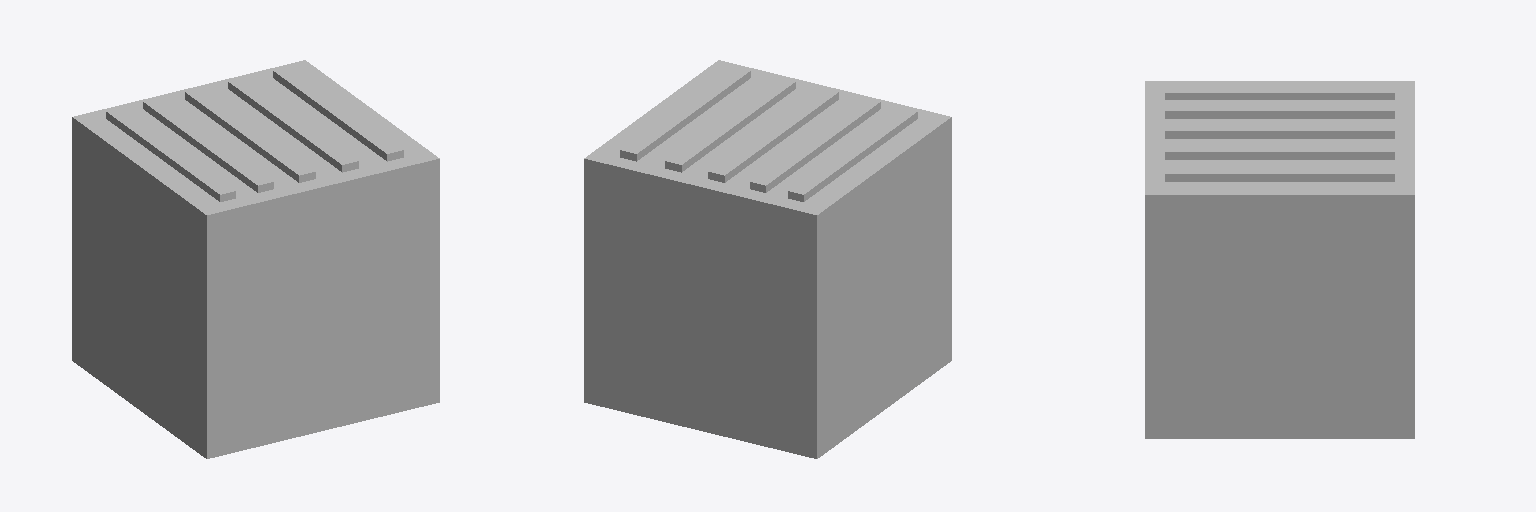
File: Tile2.obj
3 renders of one model, left to right at view 1: azimuth 30°, elevation 25°; view 2: azimuth 150°, elevation 25°; view 3: azimuth 270°, elevation 25°, orthographic.
Parts seen in each view (by area): view 1: Cubo, Cubo.003, Cubo.004, Cubo.005, Cubo.002, Cubo.001; view 2: Cubo, Cubo.003, Cubo.004, Cubo.005, Cubo.002, Cubo.001; view 3: Cubo, Cubo.002, Cubo.003, Cubo.004, Cubo.005, Cubo.001.
Boxes of the visible parts, x1,y1,x2,y2 form: Cubo: [72, 60, 439, 458]; Cubo.003: [185, 88, 315, 182]; Cubo.004: [228, 77, 358, 172]; Cubo.005: [143, 98, 273, 192]; Cubo.002: [273, 66, 403, 161]; Cubo.001: [106, 107, 235, 201]; Cubo: [584, 60, 951, 458]; Cubo.003: [708, 88, 838, 182]; Cubo.004: [665, 77, 795, 172]; Cubo.005: [750, 98, 880, 192]; Cubo.002: [620, 66, 750, 161]; Cubo.001: [788, 107, 917, 201]; Cubo: [1145, 81, 1414, 438]; Cubo.002: [1165, 166, 1394, 181]; Cubo.003: [1165, 123, 1394, 138]; Cubo.004: [1165, 144, 1394, 159]; Cubo.005: [1165, 103, 1394, 118]; Cubo.001: [1165, 85, 1394, 99].
Bounding box in the file's own units: 2 × 2.06 × 2.